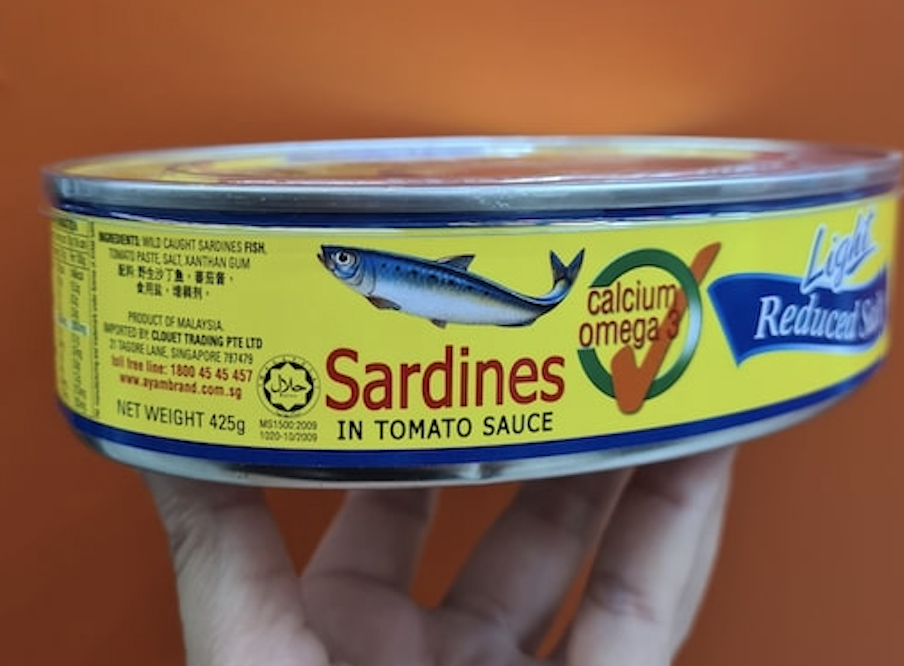Halal: (269, 371, 307, 400)
